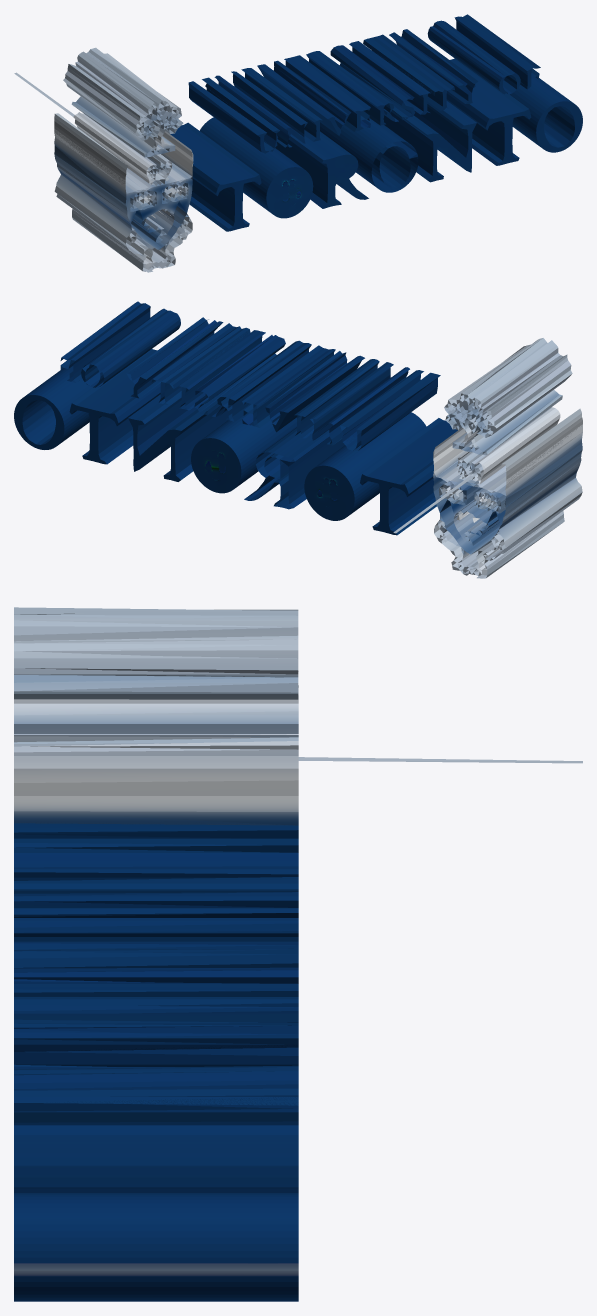
Rendered from university-of-toronto.glb.
The picture shows the model from 3 angles, top to bottom: view 1: azimuth 30°, elevation 25°; view 2: azimuth 150°, elevation 25°; view 3: azimuth 270°, elevation 25°; orthographic projection. The views are drawn at different scales.
Visible parts, largest first — view 1: Curve; view 2: Curve; view 3: Curve.
Part boxes in pixels (x1,y1,x2,y2): Curve: (14,14,582,272); Curve: (14,301,582,578); Curve: (14,607,582,1301).
Bounding box in the file's own units: 0.0185 × 0.00653 × 0.01.
1 material, 1 textured.
